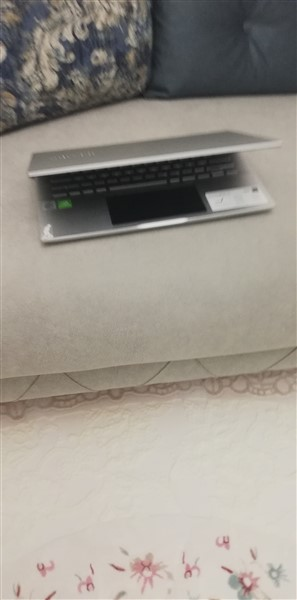laptop: (25, 130, 284, 246)
